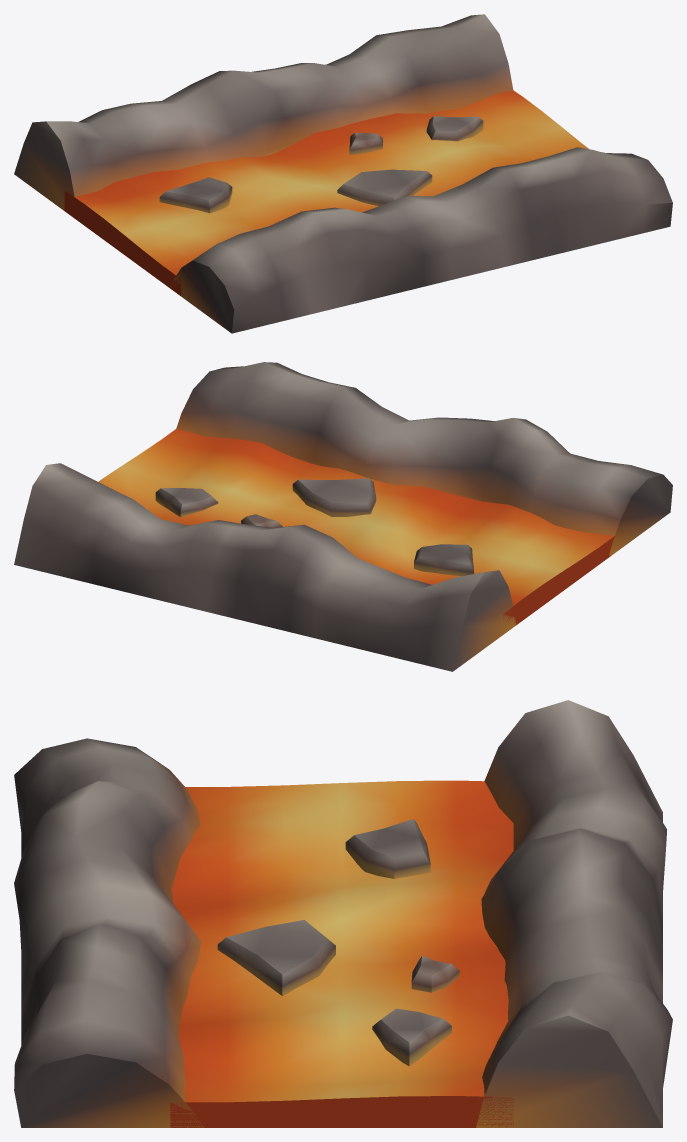
Rendered from EmberLavaChannel.fbx.
3 renders of one model, top to bottom at view 1: azimuth 30°, elevation 25°; view 2: azimuth 150°, elevation 25°; view 3: azimuth 270°, elevation 25°, orthographic. The views are drawn at different scales.
Parts seen in each view (by area): view 1: EmberLavaChannel; view 2: EmberLavaChannel; view 3: EmberLavaChannel.
Boxes of the visible parts, bbox=[...] form: EmberLavaChannel: bbox=[14, 14, 672, 333]; EmberLavaChannel: bbox=[14, 362, 672, 671]; EmberLavaChannel: bbox=[14, 700, 672, 1127].
Bounding box in the file's own units: 1 × 0.1684 × 0.883.
